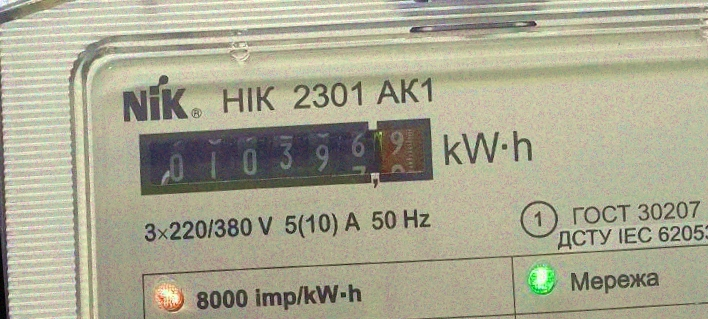0: (237, 143, 261, 177), (164, 148, 186, 183)
1: (205, 146, 220, 180)
3: (275, 138, 296, 172)
6: (346, 129, 369, 159)
9: (310, 139, 332, 174), (384, 127, 407, 158)
screen: (121, 98, 446, 216)
